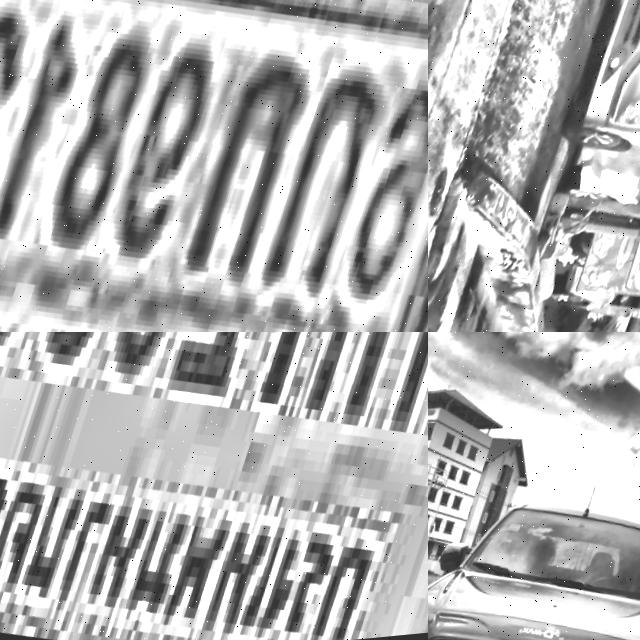license-plate: (0, 0, 428, 332), (0, 332, 428, 640), (602, 207, 640, 249)
